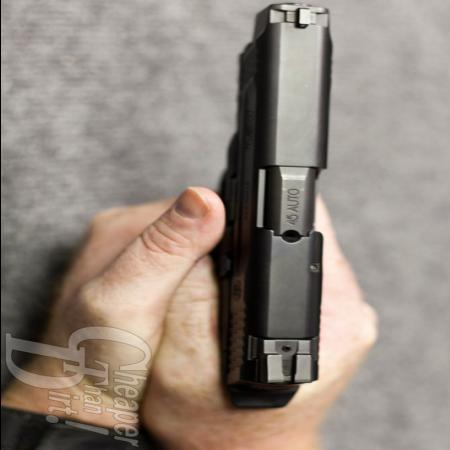Pistol: (195, 3, 352, 394)
